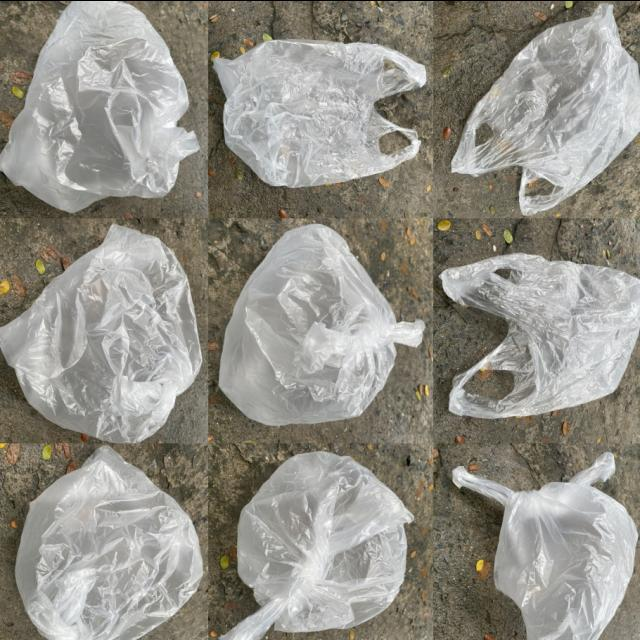plastik: (0, 223, 202, 442), (0, 0, 199, 211), (219, 223, 425, 425), (451, 3, 640, 214), (220, 450, 413, 640), (15, 445, 202, 640), (453, 451, 639, 640), (441, 252, 640, 418), (215, 38, 426, 186)
